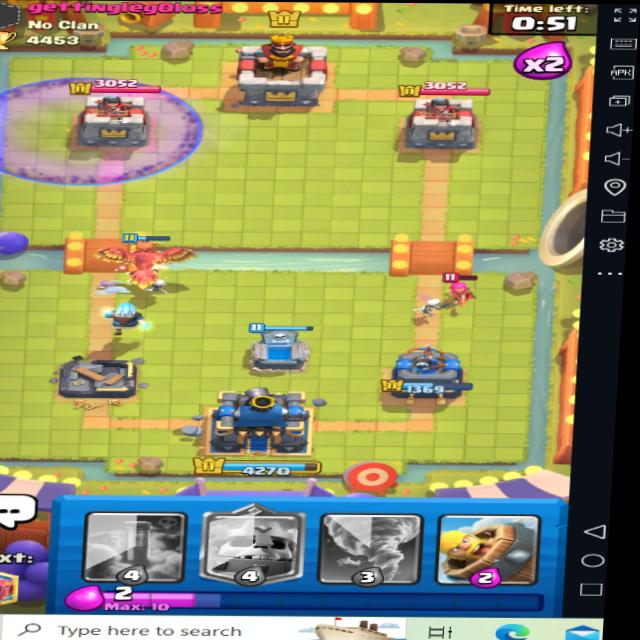archer: (432, 270, 496, 311)
